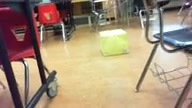cube: (99, 28, 129, 56)
